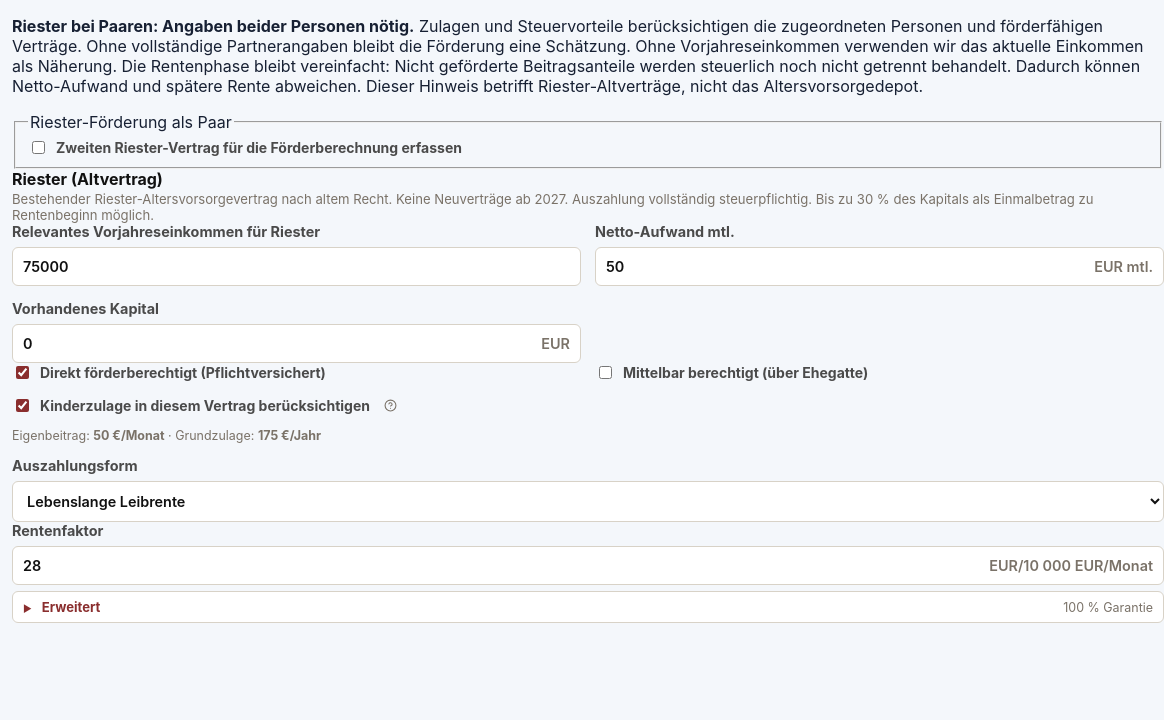
Scenario: RiesterInputs › names the child allowance checkbox without the tooltip text
Click the button named "Erklärung anzeigen". click: (391, 405)
box: [382,396,400,414]
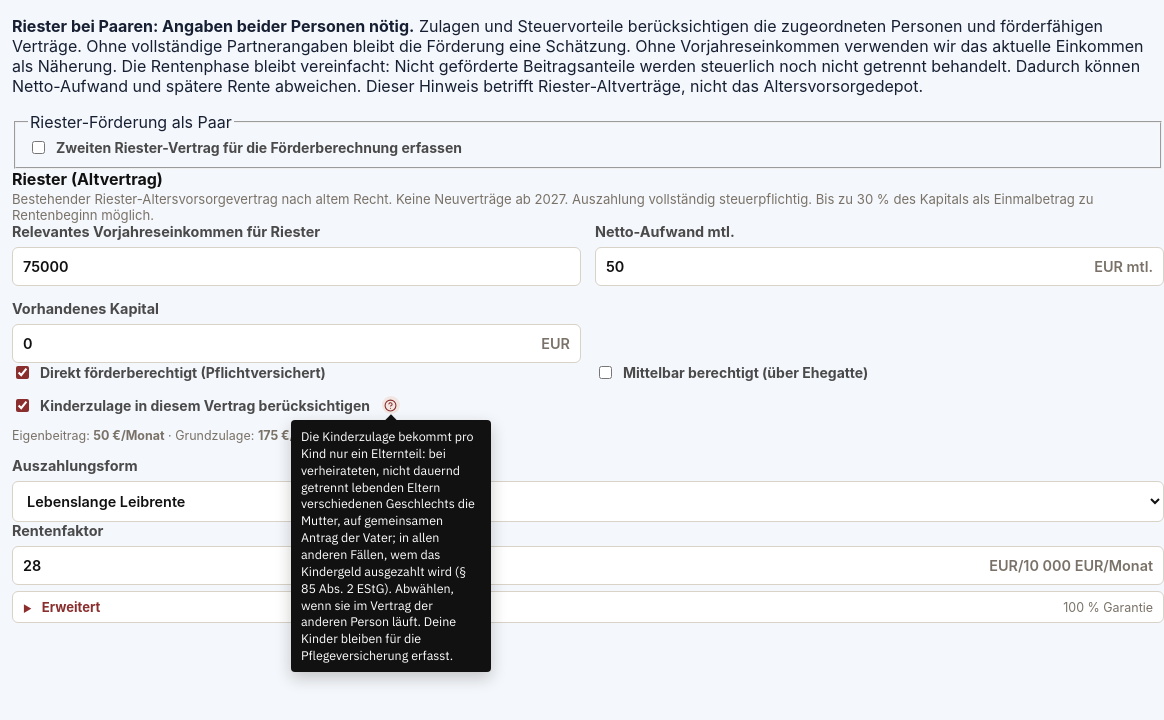
Check: the tooltip is shown, box [291,420,491,672]
